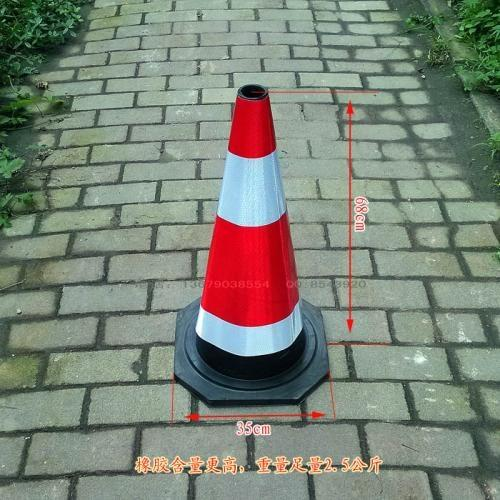cone_barrel: (181, 88, 318, 380)
